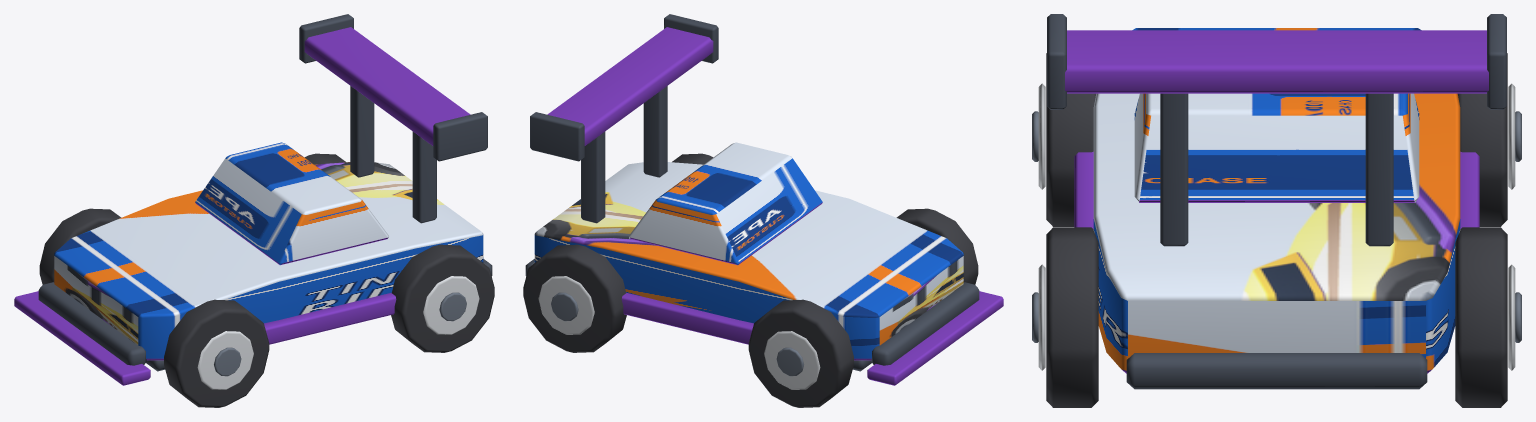
3 views of the same model, side by side, from view 1: azimuth 30°, elevation 25°; view 2: azimuth 150°, elevation 25°; view 3: azimuth 270°, elevation 25° (orthographic). The views are drawn at different scales.
Visible parts, largest first — view 1: TC-05_connected_shell, TC-05_cabin, rear airfoil, Tire, Tire.002, custom chin, custom side guard, front bumper, wing endplate, wing support.001, wing support, Rim.002 (+5 smaller); view 2: TC-05_connected_shell, TC-05_cabin, rear airfoil, Tire.001, Tire.003, custom chin, custom side guard.001, front bumper, wing endplate.001, wing support, wing support.001, Rim.003 (+5 smaller); view 3: TC-05_connected_shell, rear airfoil, TC-05_cabin, rear bumper, Tire.002, Tire.003, Tire, Tire.001, wing support, wing support.001, wing endplate, wing endplate.001 (+6 smaller).
Boxes of the visible parts, <box> form: TC-05_connected_shell: <box>54,162,483,360</box>; TC-05_cabin: <box>195,142,388,265</box>; rear airfoil: <box>304,27,470,145</box>; Tire: <box>164,299,269,407</box>; Tire.002: <box>391,244,494,352</box>; custom chin: <box>14,291,150,385</box>; custom side guard: <box>264,292,396,344</box>; front bumper: <box>38,282,146,365</box>; wing endplate: <box>433,112,487,161</box>; wing support.001: <box>350,86,374,177</box>; wing support: <box>412,131,436,223</box>; Rim.002: <box>423,276,479,334</box>; TC-05_connected_shell: <box>534,162,963,360</box>; TC-05_cabin: <box>629,142,822,265</box>; rear airfoil: <box>547,27,713,145</box>; Tire.001: <box>748,299,853,407</box>; Tire.003: <box>523,244,626,352</box>; custom chin: <box>867,291,1003,385</box>; custom side guard.001: <box>621,292,753,344</box>; front bumper: <box>871,282,979,365</box>; wing endplate.001: <box>530,112,584,161</box>; wing support: <box>643,86,667,177</box>; wing support.001: <box>581,131,605,223</box>; Rim.003: <box>538,276,594,334</box>; TC-05_connected_shell: <box>1093,28,1460,373</box>; rear airfoil: <box>1065,30,1488,93</box>; TC-05_cabin: <box>1134,93,1419,202</box>; rear bumper: <box>1126,353,1427,389</box>; Tire.002: <box>1046,227,1098,407</box>; Tire.003: <box>1455,227,1507,407</box>; Tire: <box>1046,53,1095,226</box>; Tire.001: <box>1458,53,1507,226</box>; wing support: <box>1160,93,1188,246</box>; wing support.001: <box>1365,93,1393,246</box>; wing endplate: <box>1047,14,1066,109</box>; wing endplate.001: <box>1487,14,1506,109</box>.
Bounding box in the file's own units: 359 × 206 × 243.
